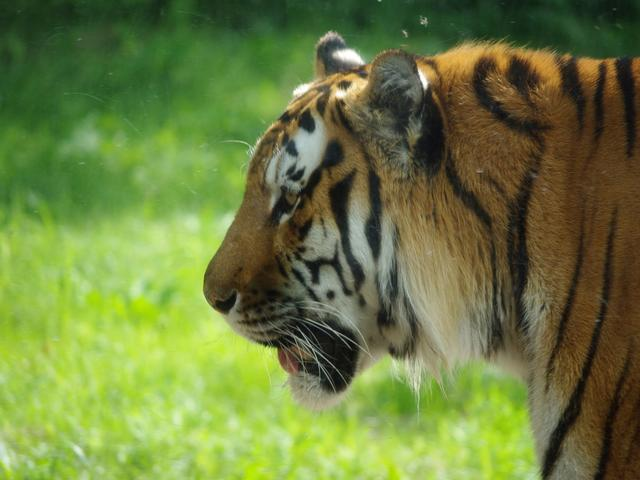tiger: (142, 30, 635, 459)
